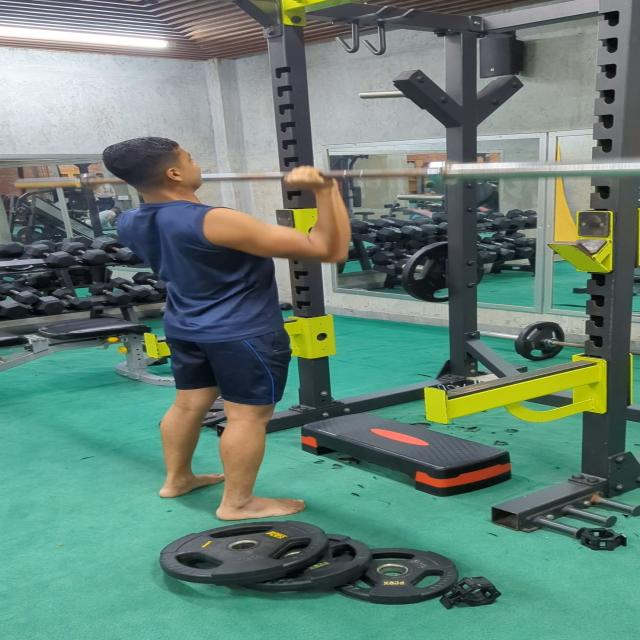Normal_OverheadPress: (89, 123, 370, 527)
